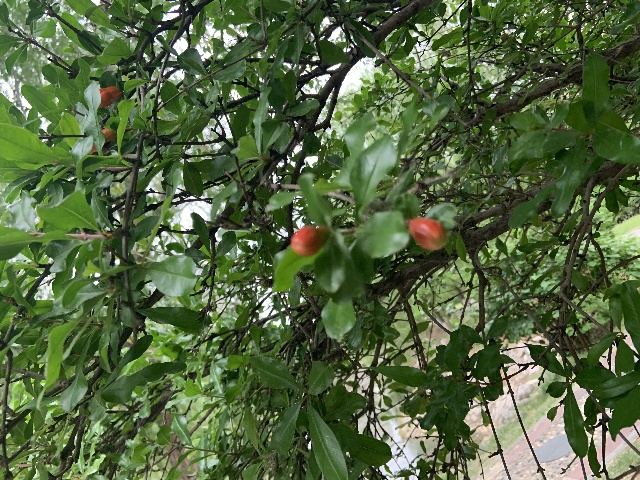bud: (408, 217, 447, 250), (290, 225, 328, 256), (90, 128, 116, 154), (98, 86, 122, 108)
